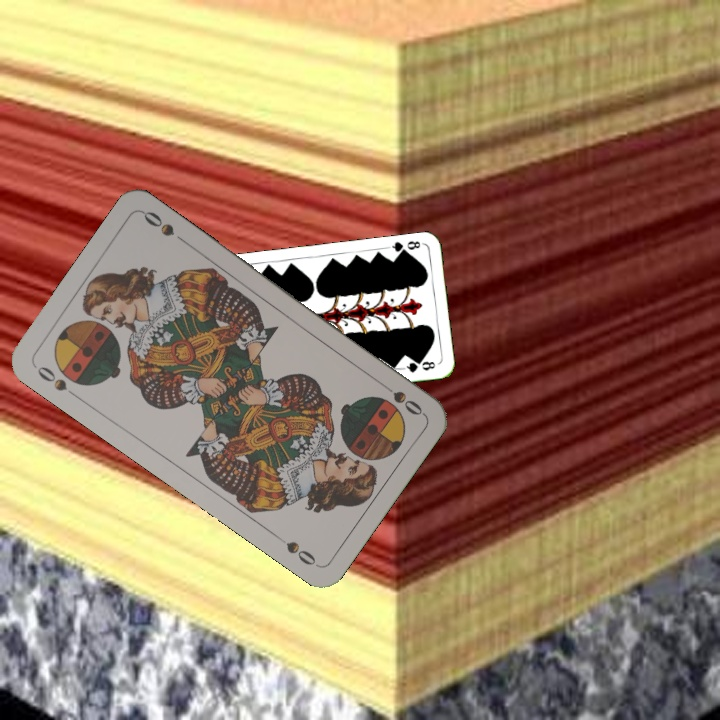G8: (384, 237, 425, 258)
SO: (374, 377, 426, 419), (33, 362, 82, 402)
